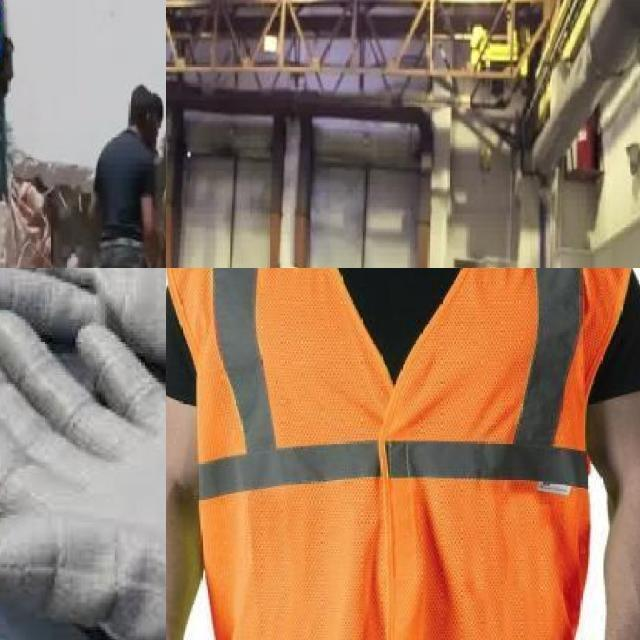apron: (0, 310, 166, 640), (0, 268, 166, 399)
